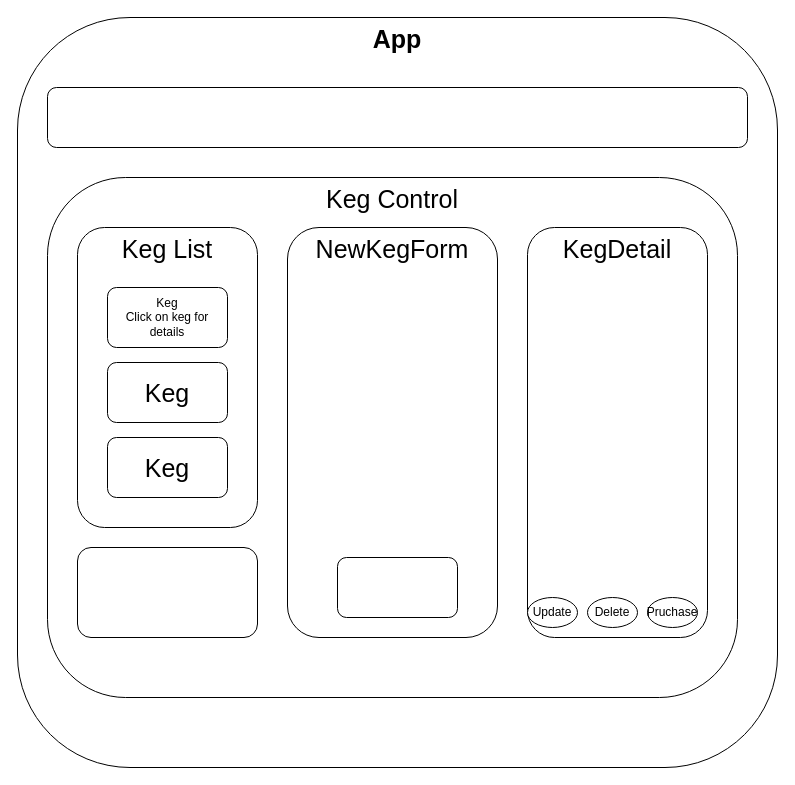
Image size: 795x785. Some labels were removed from this diagram. Here are the shapes that lost their labels. From the top down, the centre of each, then its label:
[397,117]: Header
[167,592]: Add Keg This button shows NewKegForm and belongs to KegControl
[397,587]: Submit Add keg and show on KegList
